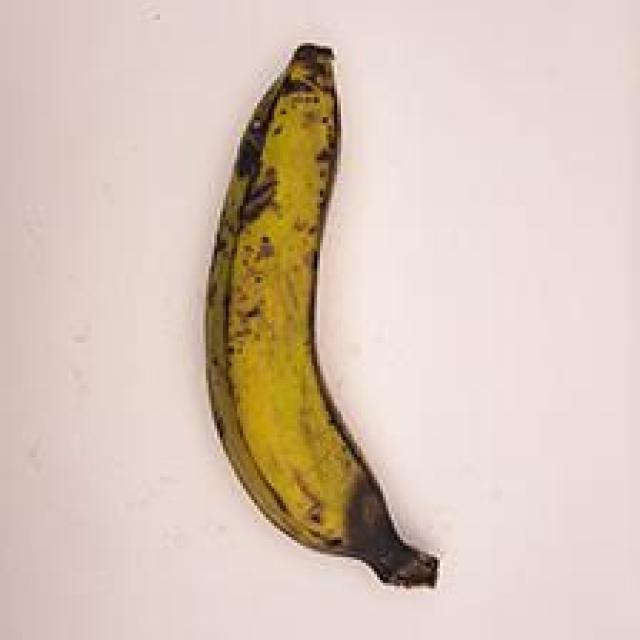Overripe: (169, 26, 471, 605)
